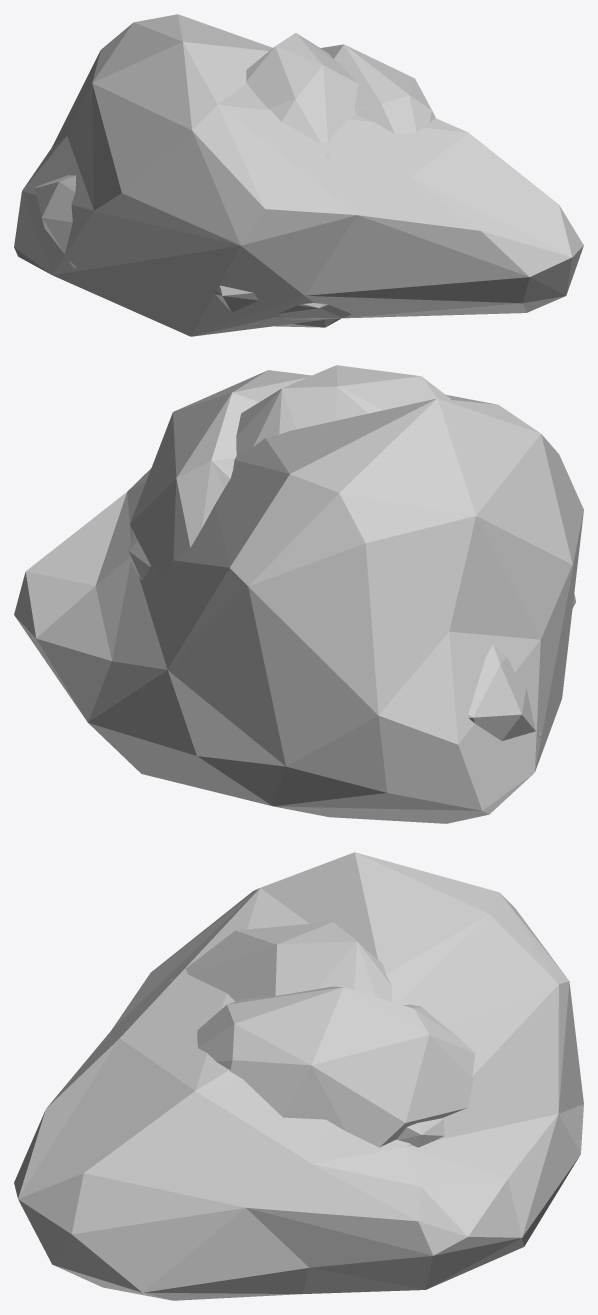
The model's file is rocas.fbx.
The picture shows the model from 3 angles, top to bottom: view 1: azimuth 30°, elevation 25°; view 2: azimuth 150°, elevation 25°; view 3: azimuth 270°, elevation 25°; orthographic projection. The views are drawn at different scales.
Parts seen in each view (by area): view 1: Rock.005, Rock.002, Rock; view 2: Rock.005, Rock.002, Rock; view 3: Rock.005, Rock.002, Rock.
Part boxes in pixels (x1,y1,x2,y2): Rock.005: [14, 14, 583, 336]; Rock.002: [35, 44, 435, 319]; Rock: [246, 33, 358, 327]; Rock.005: [14, 395, 583, 823]; Rock.002: [130, 370, 575, 740]; Rock: [128, 365, 450, 580]; Rock.005: [14, 852, 583, 1300]; Rock.002: [197, 986, 475, 1147]; Rock: [170, 922, 444, 1147].
Size of the model in its own units: 279 by 187 by 298.
